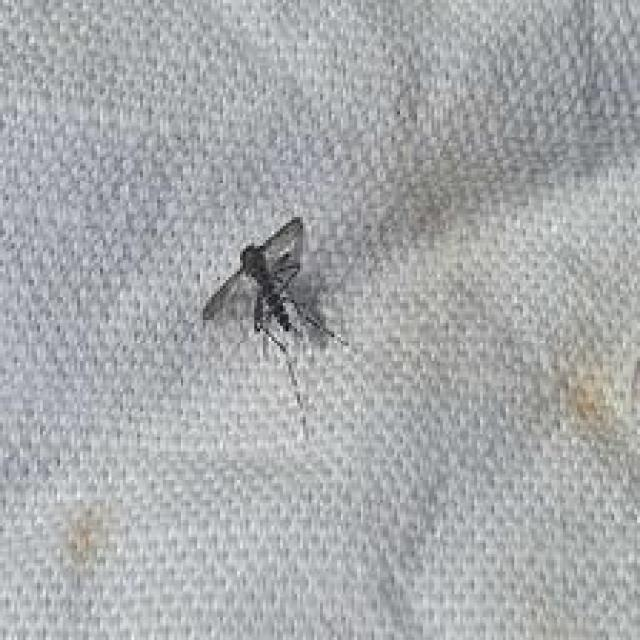Aedes albopictus: (201, 216, 350, 438)
